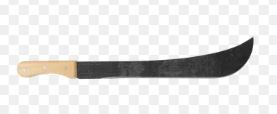MACHETTE: (12, 36, 258, 92)
